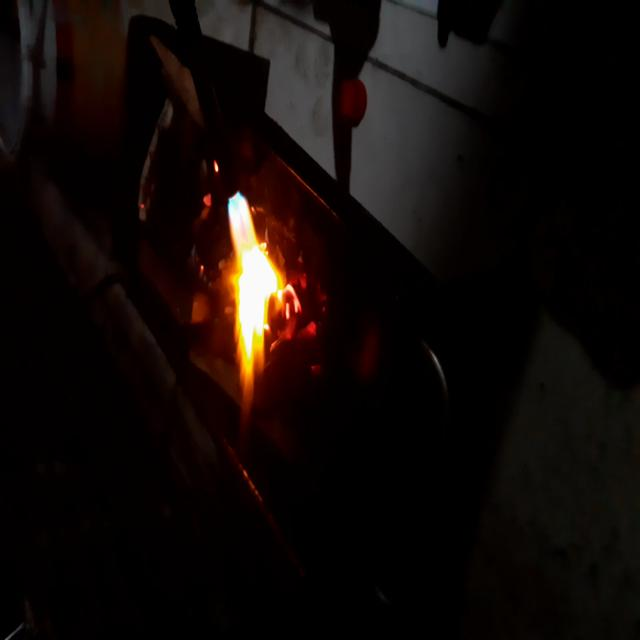Fire: (208, 175, 303, 415)
